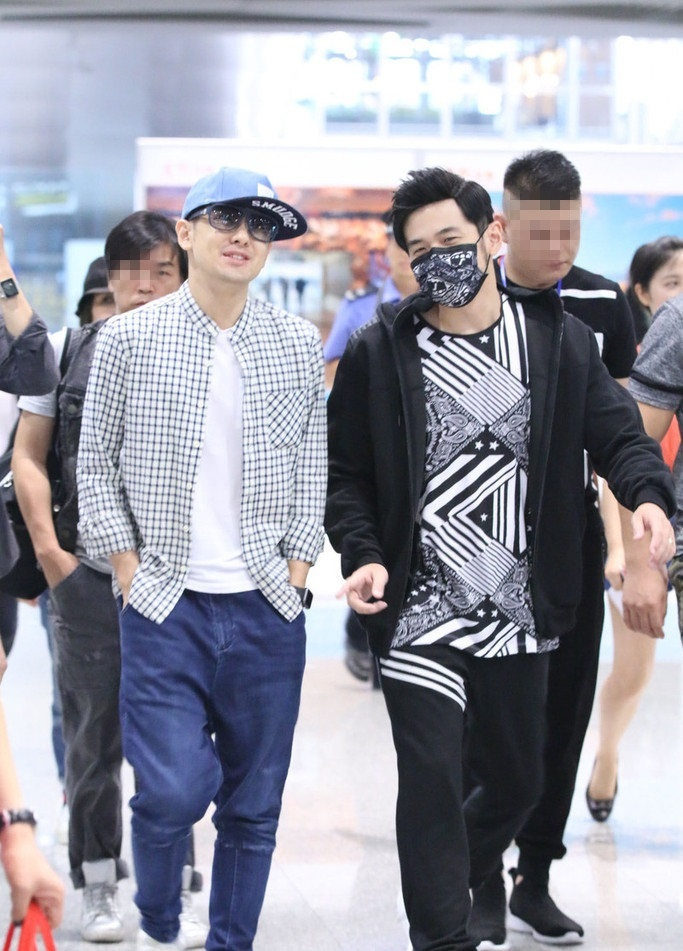Mask: (405, 225, 487, 307)
